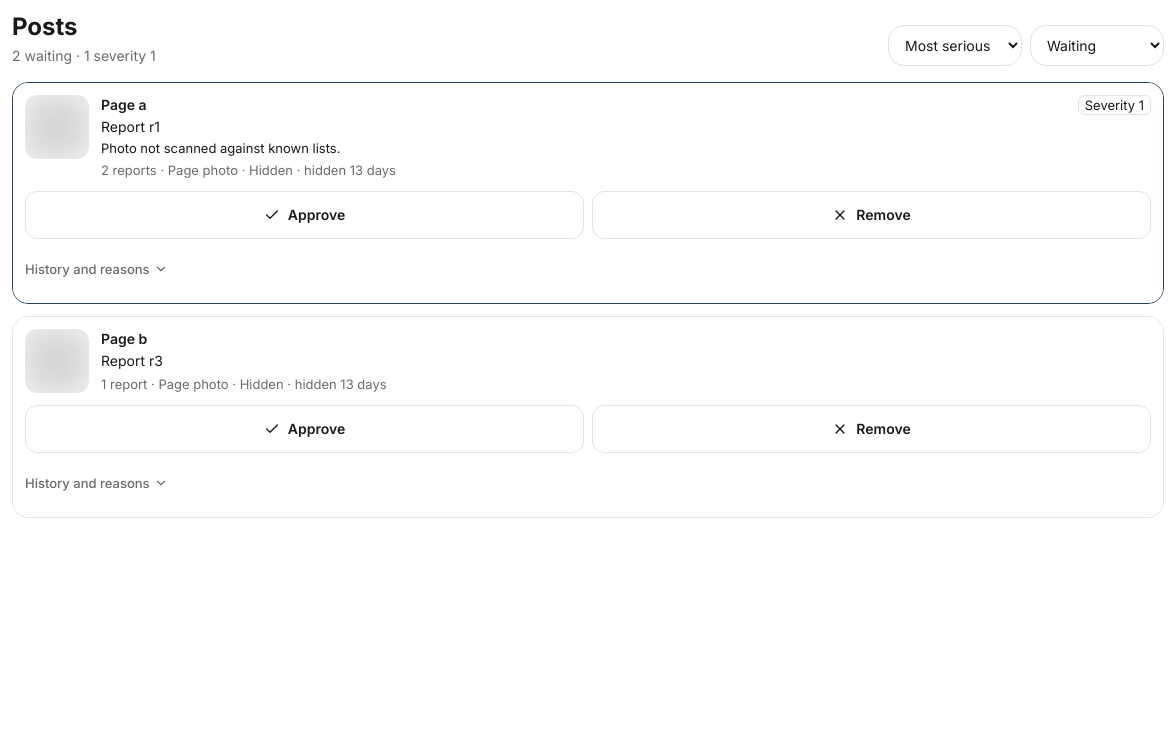
Test: F101 — one tap, then a five-second Undo › severity 1 asks once more before Approve
Click the button with test id "review-approve": (304,215) [25,191,584,239]
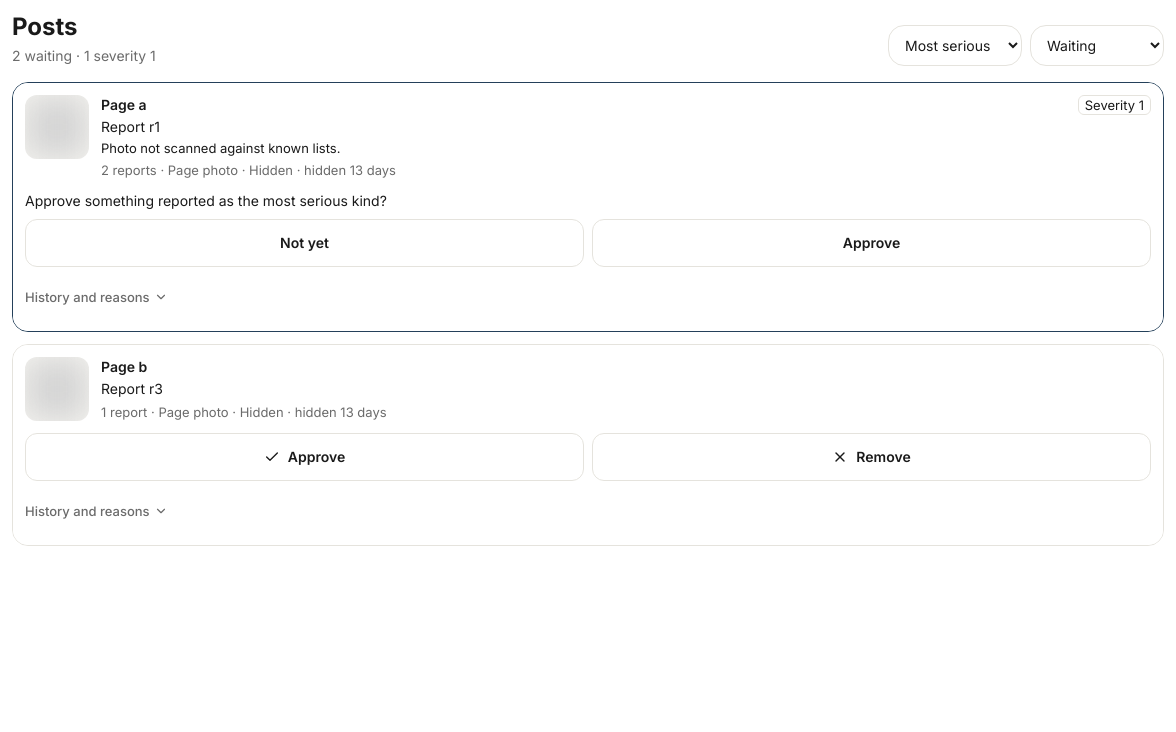
Check: the number of list items with test id "review-row" is 2, box [12,82,1164,332]; [12,344,1164,546]
Check: the element with test id "review-confirm" is shown, box [25,191,1151,267]
